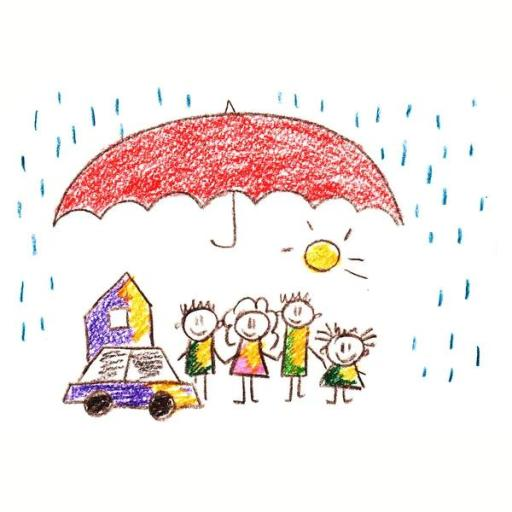person: (220, 294, 280, 407), (274, 283, 328, 400), (316, 318, 380, 408), (170, 294, 222, 400)
